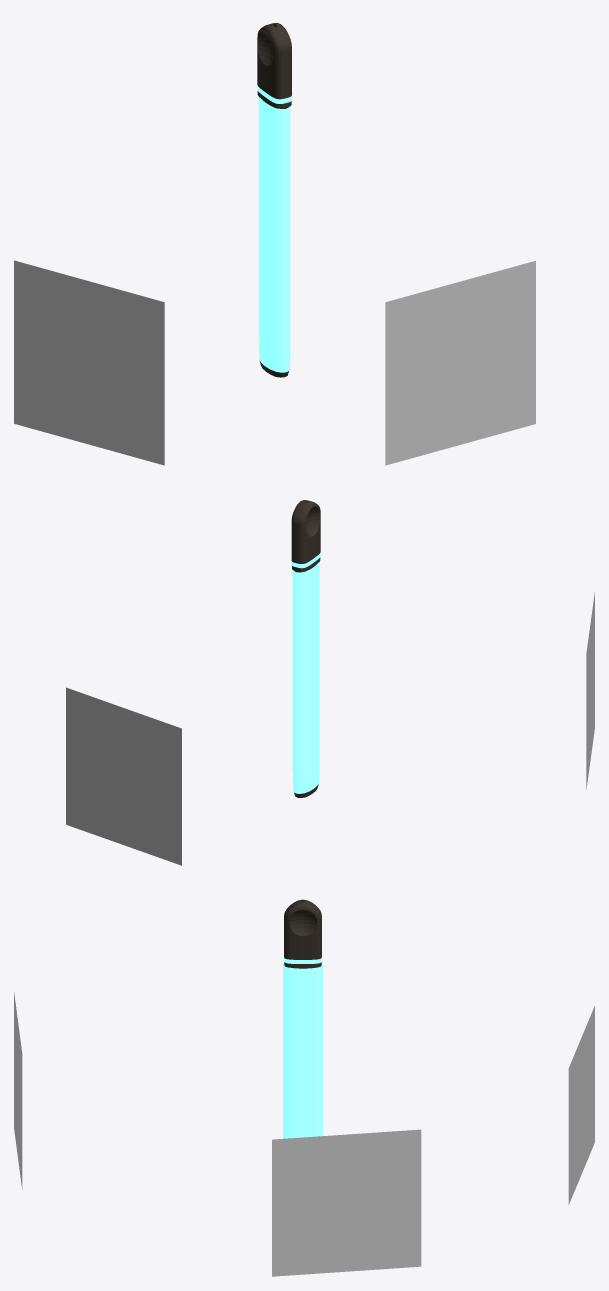
File: vaper-with-bilboards-test2.glb
3 views of the same model, one above another, from view 1: azimuth 30°, elevation 25°; view 2: azimuth 150°, elevation 25°; view 3: azimuth 270°, elevation 25° (orthographic). The views are drawn at different scales.
Parts seen in each view (by area): view 1: Plane.002, Plane.003, Bottom, Top; view 2: Plane.001, Bottom, Top, Plane.002; view 3: Plane, Bottom, Plane.001, Top, Plane.003.
Boxes of the visible parts, x1,y1,x2,y2 form: Plane.002: [14, 260, 164, 465]; Plane.003: [385, 260, 535, 465]; Bottom: [258, 97, 290, 377]; Top: [257, 23, 291, 103]; Plane.001: [66, 687, 181, 865]; Bottom: [292, 562, 319, 797]; Top: [291, 500, 320, 568]; Plane.002: [586, 592, 594, 789]; Plane: [272, 1129, 421, 1276]; Bottom: [283, 963, 322, 1138]; Plane.001: [568, 1006, 594, 1204]; Top: [284, 899, 321, 963]; Plane.003: [14, 992, 22, 1189].
Size of the model in its own units: 18.73 by 10.38 by 18.75.
